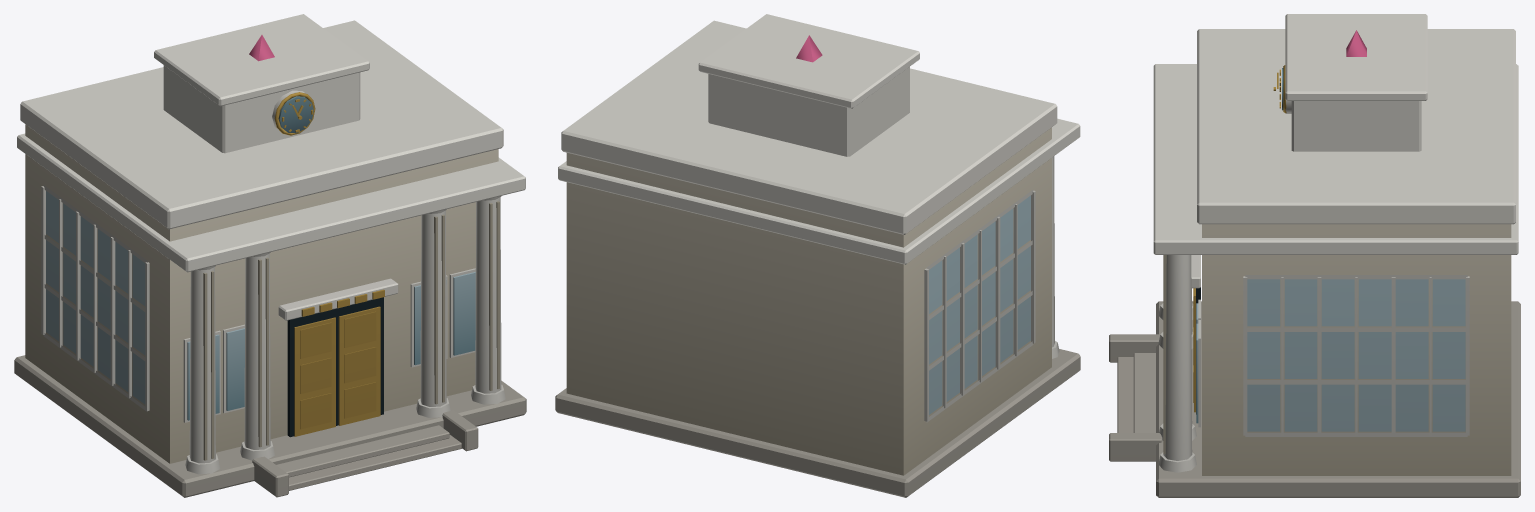
Rendered from deco_bank_civic.glb.
The picture shows the model from 3 angles, left to right: view 1: azimuth 30°, elevation 25°; view 2: azimuth 150°, elevation 25°; view 3: azimuth 270°, elevation 25°; orthographic projection. The views are drawn at different scales.
Visible parts, largest first — view 1: deco_bank_civic; view 2: deco_bank_civic; view 3: deco_bank_civic.
Part boxes in pixels (bbox=[...]): deco_bank_civic: bbox=[14, 14, 526, 497]; deco_bank_civic: bbox=[555, 14, 1080, 497]; deco_bank_civic: bbox=[1109, 14, 1520, 497].
Bounding box in the file's own units: 8.8 × 8.66 × 8.52.
